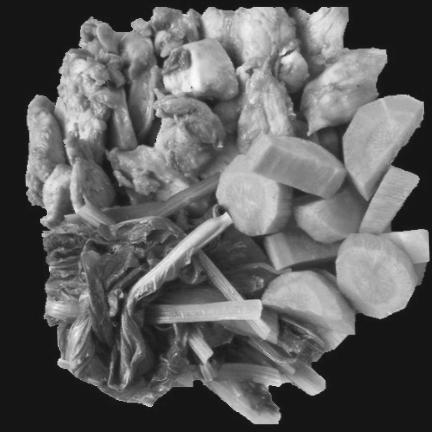carrot: (208, 91, 429, 358), (217, 95, 429, 351)
chicken: (27, 7, 387, 229), (27, 9, 387, 230)
salad: (46, 181, 329, 424), (44, 197, 326, 424)
